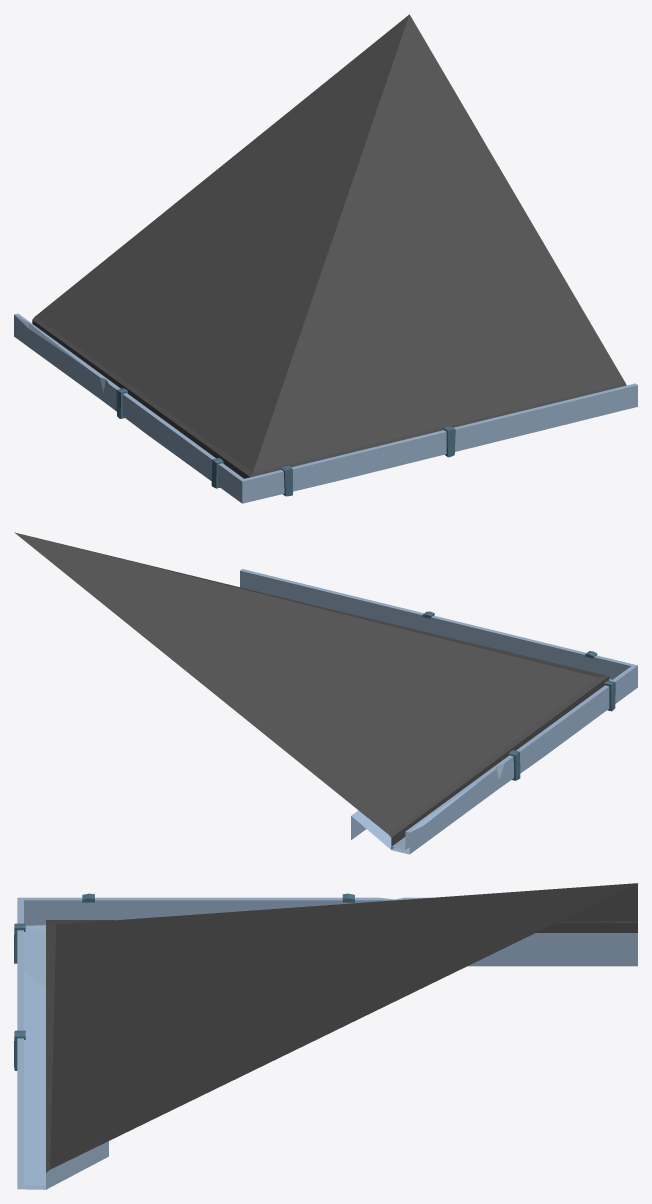
The model's file is House01_Roof_Angled_End_01.fbx.
The picture shows the model from 3 angles, top to bottom: view 1: azimuth 30°, elevation 25°; view 2: azimuth 150°, elevation 25°; view 3: azimuth 270°, elevation 25°; orthographic projection. The views are drawn at different scales.
Parts seen in each view (by area): view 1: SM_Bld_House_Roof_End_03; view 2: SM_Bld_House_Roof_End_03; view 3: SM_Bld_House_Roof_End_03.
Boxes of the visible parts, x1=… form: SM_Bld_House_Roof_End_03: x1=14, y1=14, x2=637, y2=503; SM_Bld_House_Roof_End_03: x1=14, y1=532, x2=637, y2=854; SM_Bld_House_Roof_End_03: x1=14, y1=883, x2=637, y2=1189.
Bounding box in the file's own units: 319 × 175 × 319.
